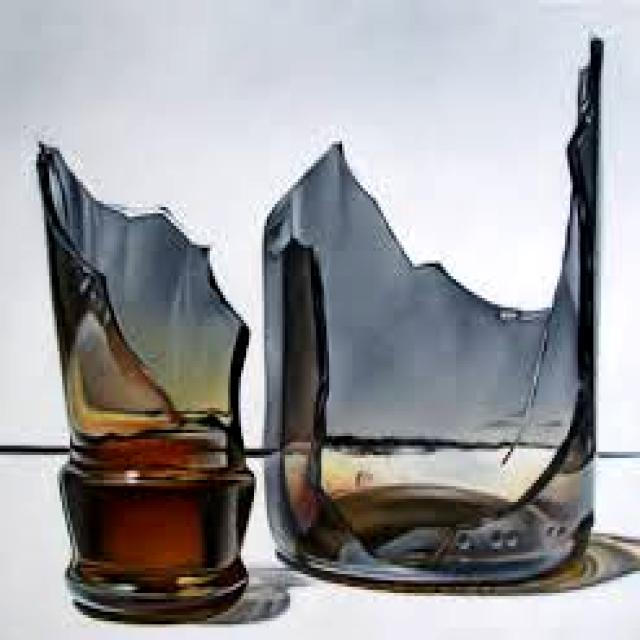Glass: (262, 139, 609, 589), (30, 142, 254, 628)
